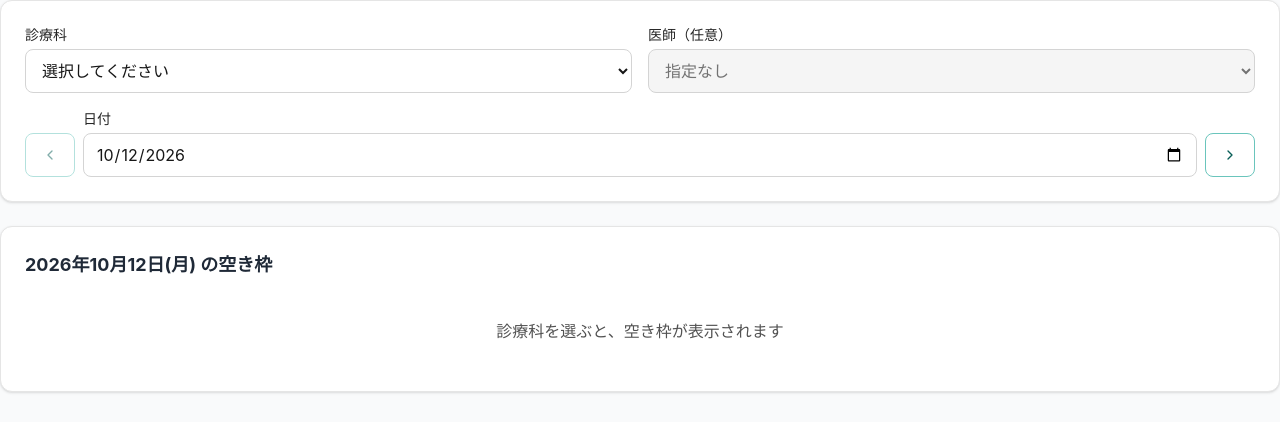
Test: BookingFlow（予約の流れ） › 日付を切り替えられる。今日より前には戻れない
Select "内科" in the dropdown labelled "診療科" at (328, 71), box [25,49,632,93]
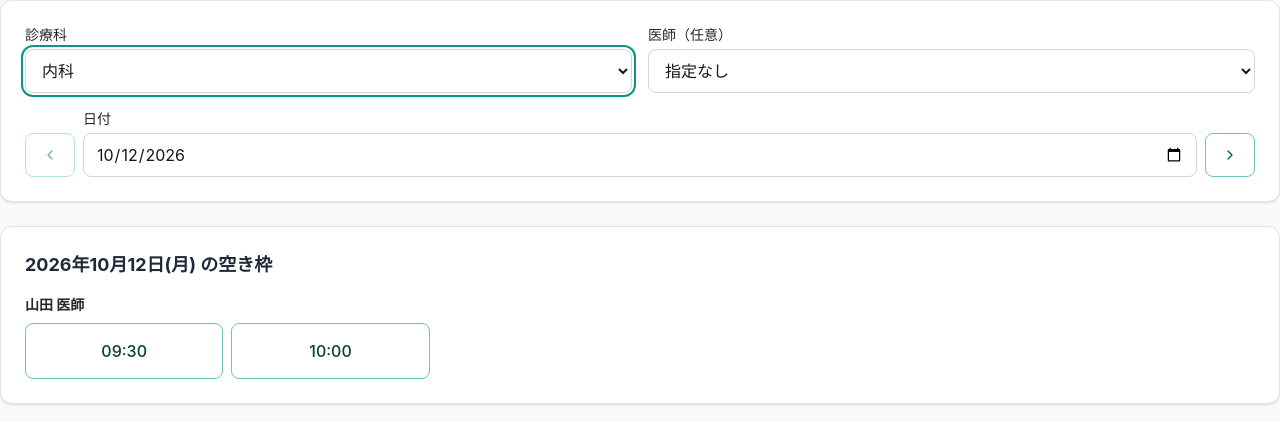
expect the button named "前の日" is disabled: met, box [25,133,75,177]
Click the button named "次の日" at (1230, 155), box [1205,133,1255,177]
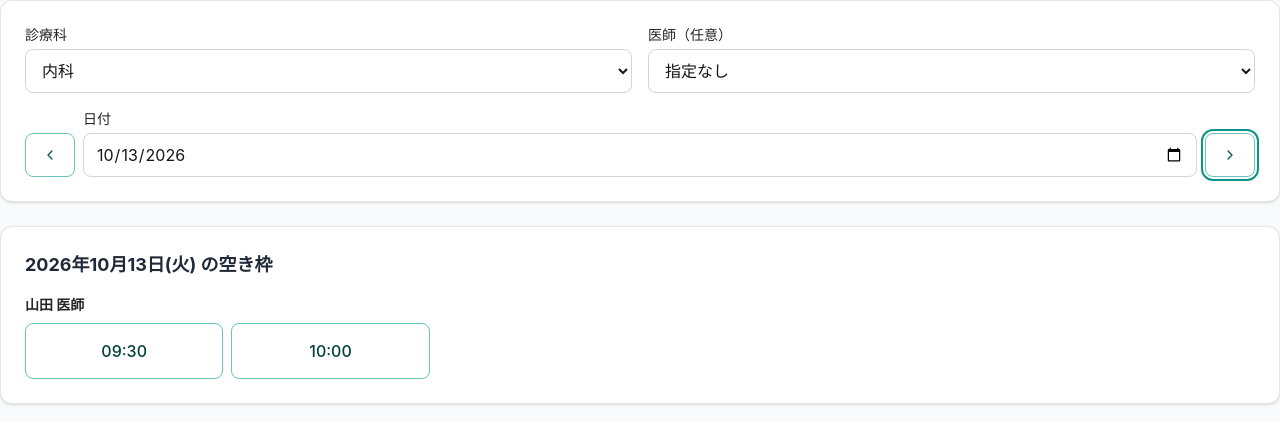
expect the button named "前の日" is enabled: met, box [25,133,75,177]
expect the date field labelled "日付" does not hold "2026-10-12": met, box [83,133,1197,177]
